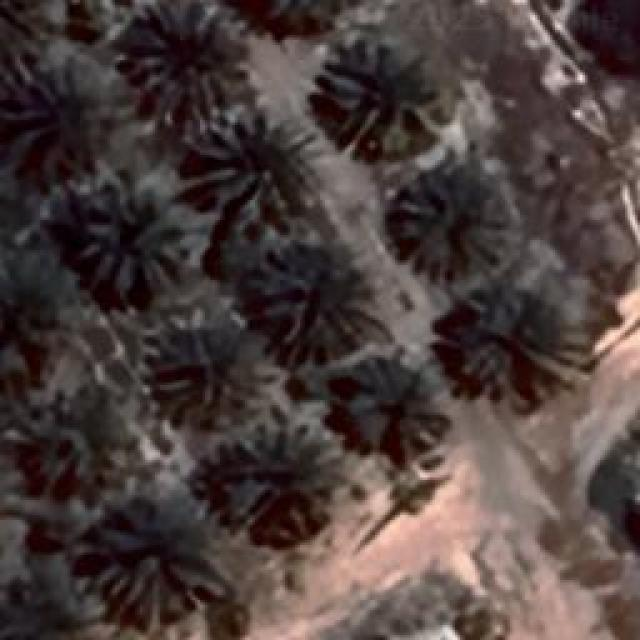PalmTree: (438, 290, 592, 402), (82, 498, 208, 622), (220, 418, 345, 540), (182, 105, 320, 213), (318, 42, 440, 156), (128, 0, 245, 118), (74, 178, 188, 292), (256, 242, 369, 356), (392, 180, 510, 280), (6, 66, 106, 172), (156, 321, 259, 419), (345, 358, 453, 450), (19, 402, 122, 486), (234, 0, 362, 44), (0, 575, 86, 640), (0, 261, 50, 371), (0, 0, 50, 69)
